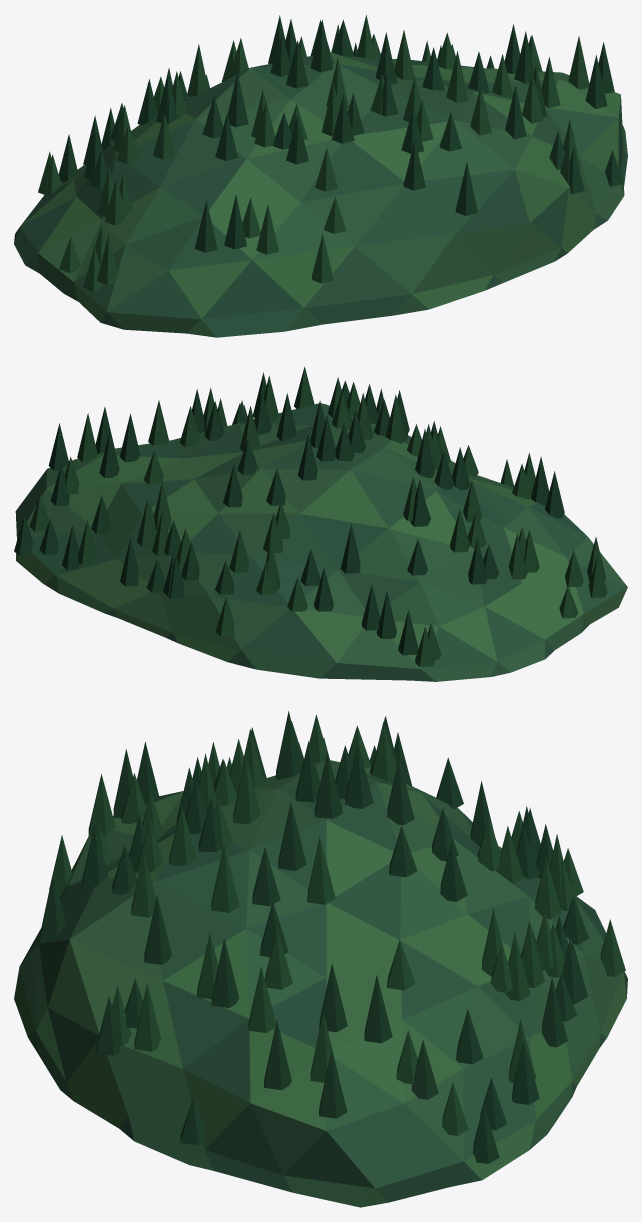
File: hill.glb
3 renders of one model, top to bottom at view 1: azimuth 30°, elevation 25°; view 2: azimuth 150°, elevation 25°; view 3: azimuth 270°, elevation 25°, orthographic. The views are drawn at different scales.
Parts seen in each view (by area): view 1: hill_mesh; view 2: hill_mesh; view 3: hill_mesh.
Boxes of the visible parts, x1,y1,x2,y2 form: hill_mesh: (14, 15, 627, 337); hill_mesh: (14, 366, 627, 681); hill_mesh: (14, 711, 627, 1207).
Size of the model in its own units: 1.96 by 0.6284 by 1.36.
